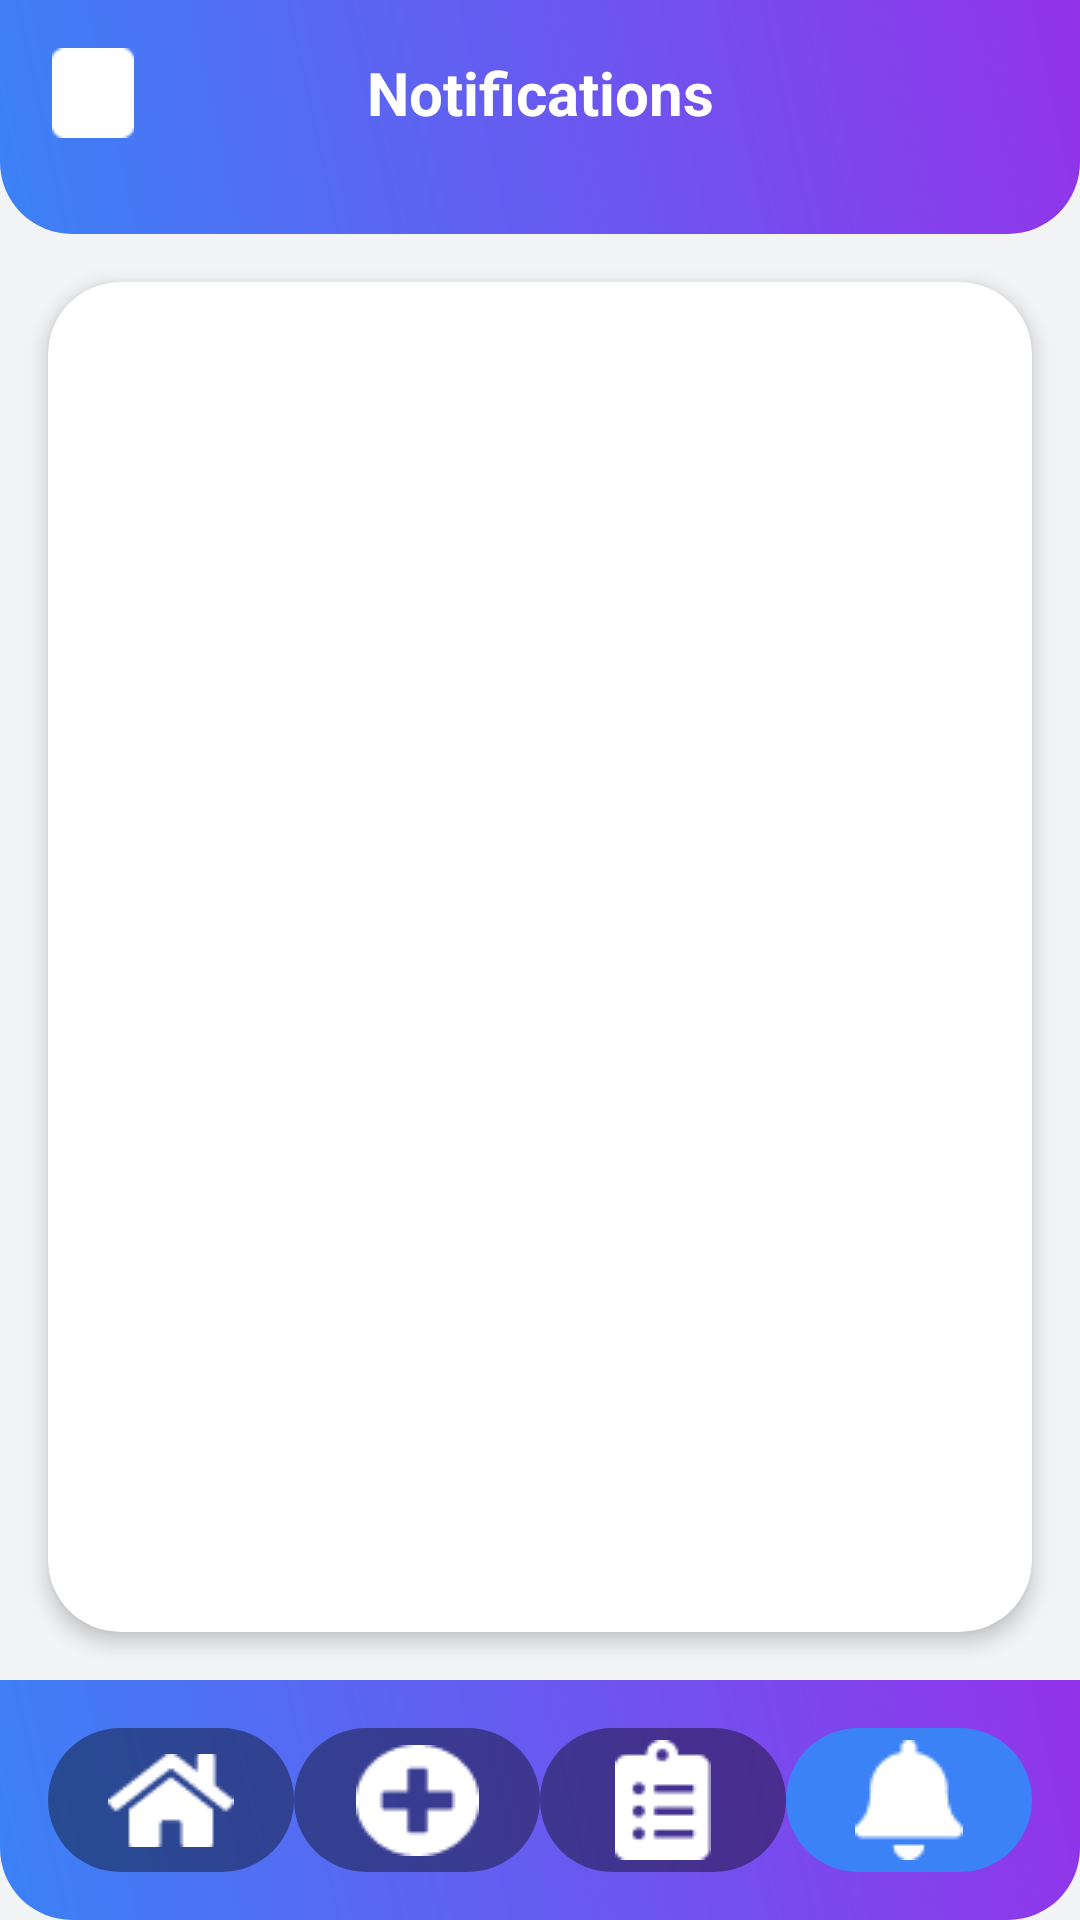

Screen size 1080px×1920px. Icon name, then its box in pixels as (x1, y1, x2, y2):
Add: (294, 1728, 540, 1872)
Home: (48, 1728, 294, 1872)
Notifications: (786, 1728, 1032, 1872)
Schedule: (540, 1728, 786, 1872)
